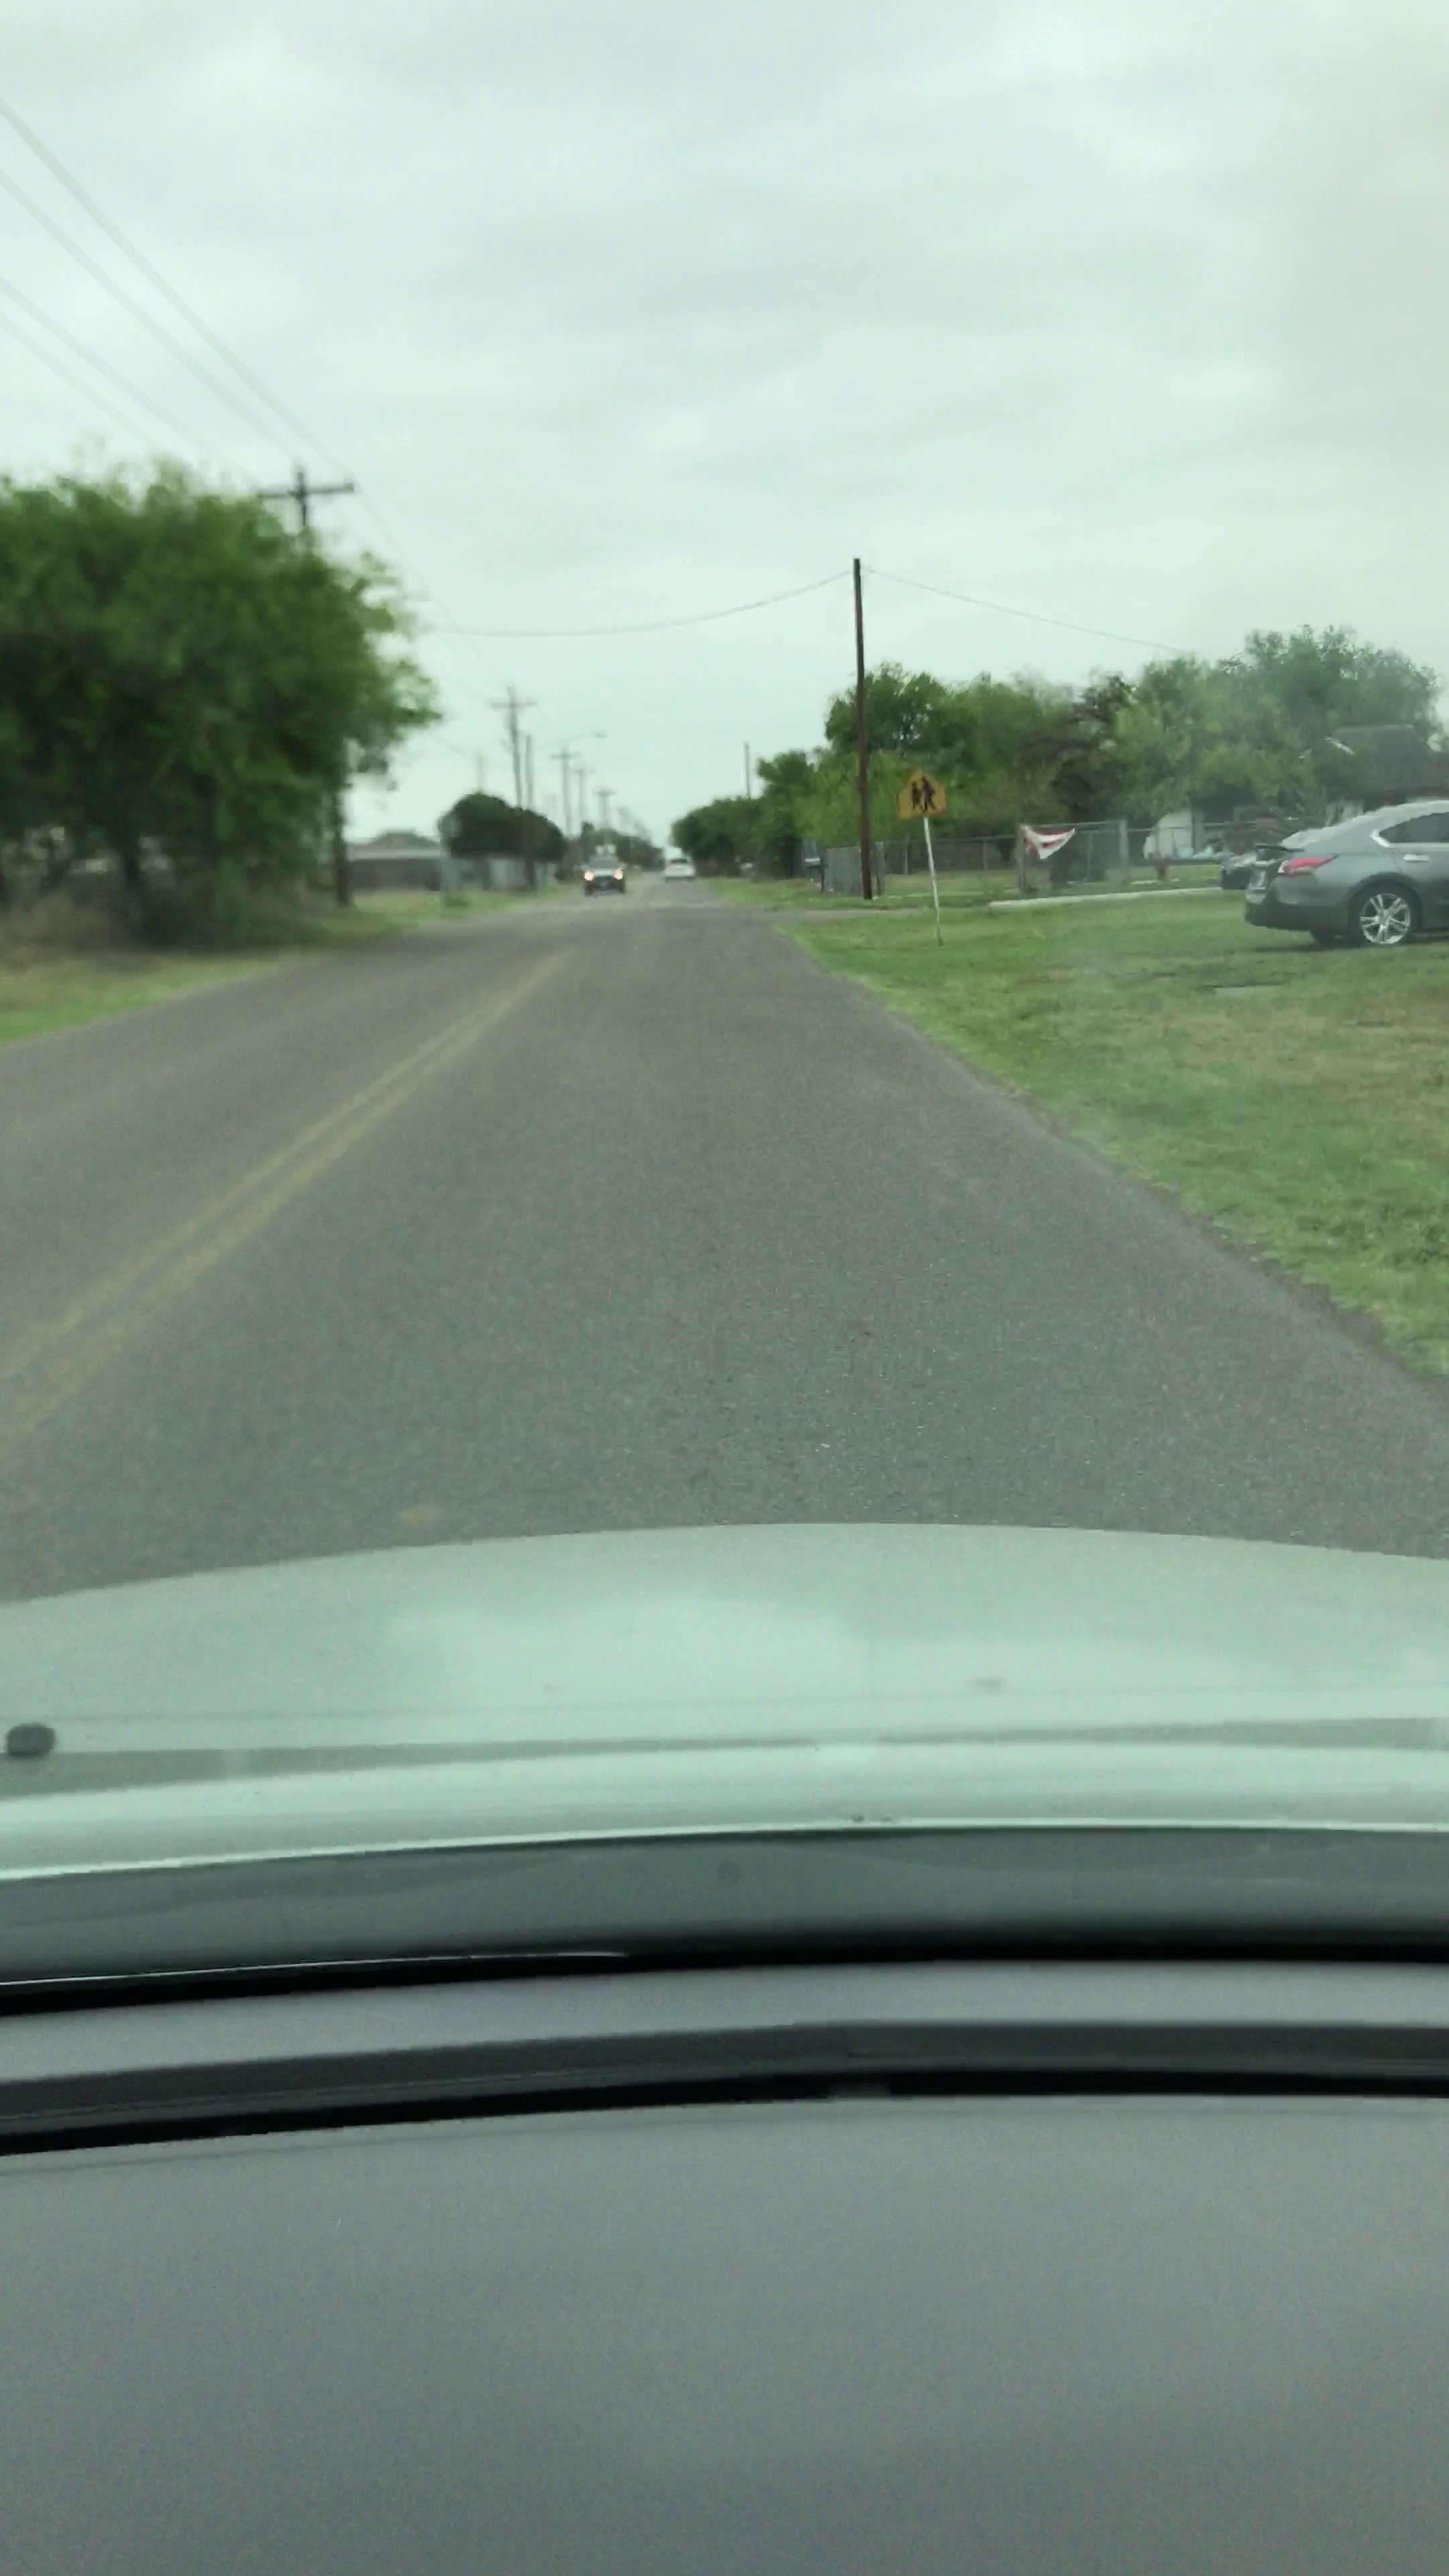blurredLine: (21, 1065, 373, 1405)
